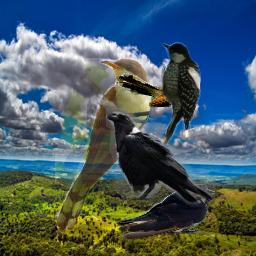Crow: (106, 108, 215, 207)
Cuckoo: (55, 58, 152, 234), (117, 73, 196, 108)
Swallow: (116, 184, 215, 240)
Woodpecker: (161, 42, 201, 145)
